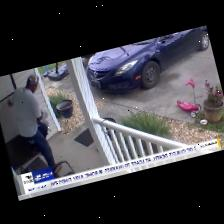person: (7, 74, 53, 167)
